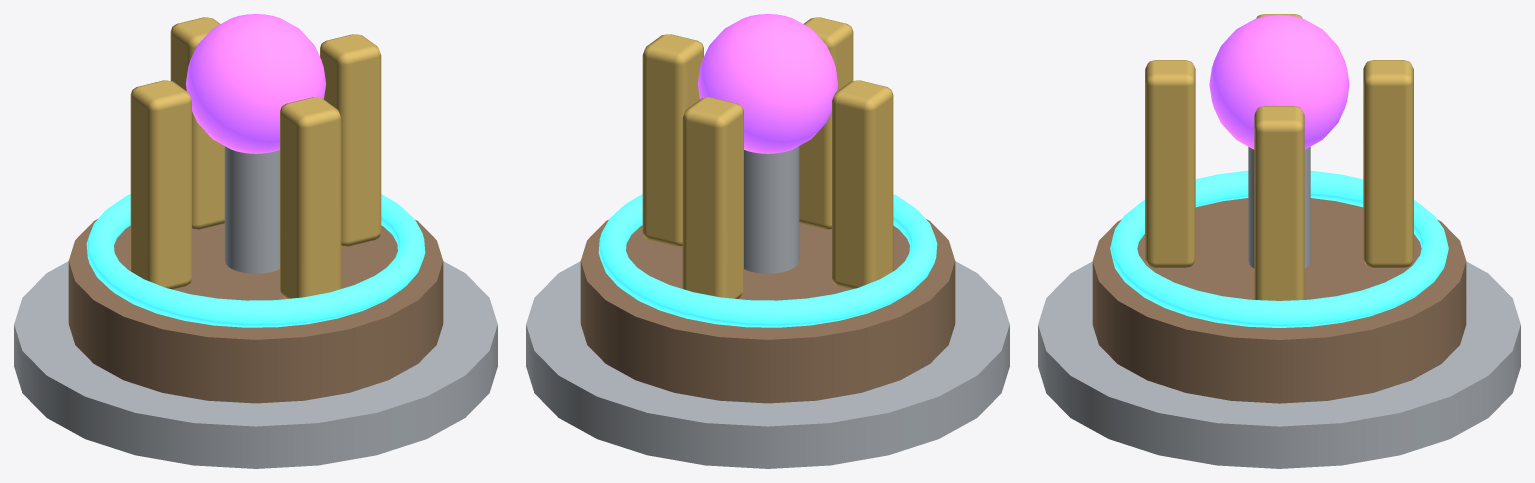
Rendered from arena-shooter-map-kit-overdrive-pedestal-774fc0f0__23124.glb.
3 views of the same model, side by side, from view 1: azimuth 30°, elevation 25°; view 2: azimuth 150°, elevation 25°; view 3: azimuth 270°, elevation 25° (orthographic).
Parts seen in each view (by area): view 1: overdrive-pedestal; view 2: overdrive-pedestal; view 3: overdrive-pedestal.
Part boxes in pixels (box(x1,y1,x2,y2)): overdrive-pedestal: box(14, 14, 497, 468); overdrive-pedestal: box(526, 14, 1009, 468); overdrive-pedestal: box(1038, 14, 1520, 468).
Bounding box in the file's own units: 1.24 × 0.98 × 1.24.
